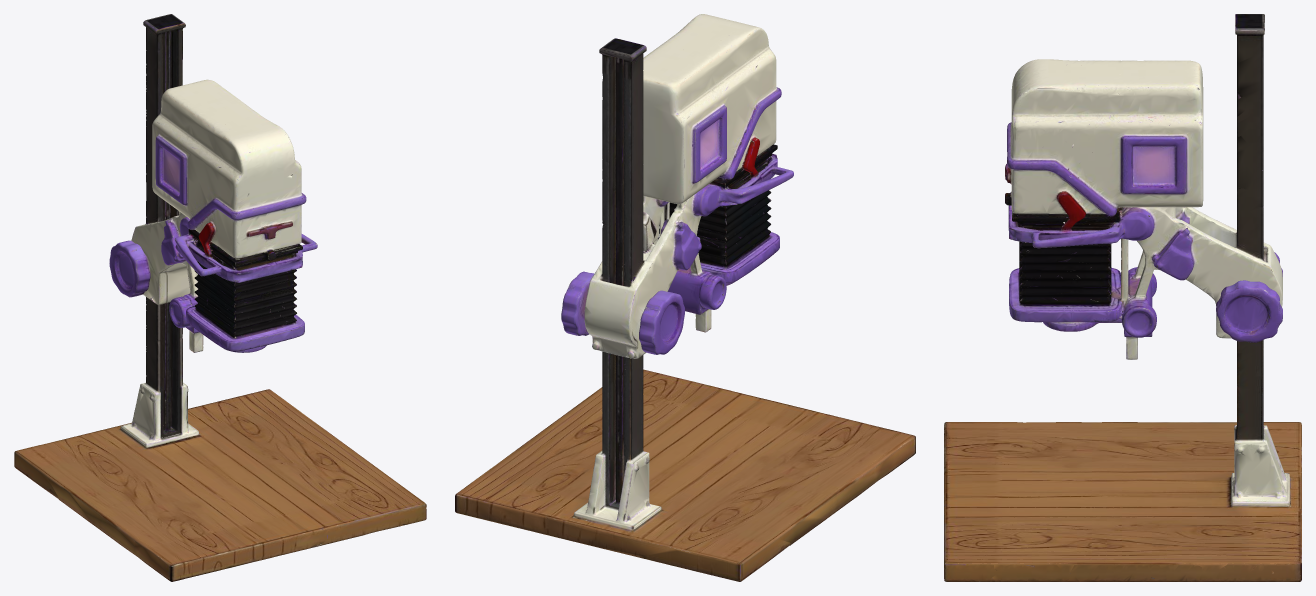
File: enlarger_meshy6.glb
The picture shows the model from 3 angles, left to right: view 1: azimuth 30°, elevation 25°; view 2: azimuth 150°, elevation 25°; view 3: azimuth 270°, elevation 25°; orthographic projection. The views are drawn at different scales.
Visible parts, largest first — view 1: Mesh1.0; view 2: Mesh1.0; view 3: Mesh1.0.
Boxes of the visible parts, left/top/right/bottom form: Mesh1.0: left=14, top=14, right=426, bottom=581; Mesh1.0: left=455, top=14, right=915, bottom=581; Mesh1.0: left=944, top=14, right=1301, bottom=581.
Bounding box in the file's own units: 1.19 × 1.91 × 1.26.
Materials: 1 (1 with a texture image).
